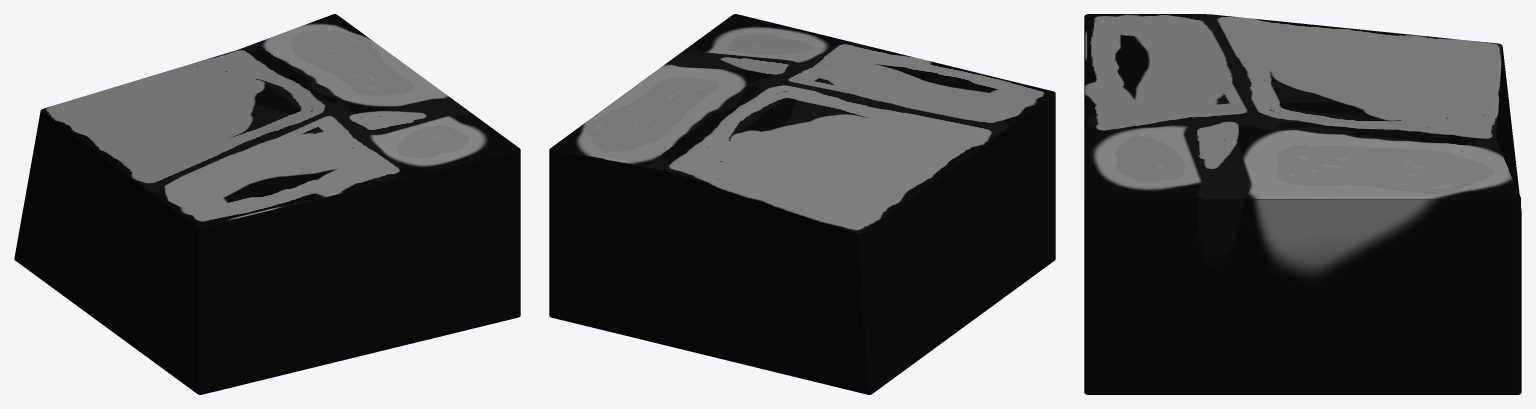
Rendered from CastleFloor2.glb.
3 views of the same model, side by side, from view 1: azimuth 30°, elevation 25°; view 2: azimuth 150°, elevation 25°; view 3: azimuth 270°, elevation 25° (orthographic). The views are drawn at different scales.
Parts seen in each view (by area): view 1: Cube; view 2: Cube; view 3: Cube.
Part boxes in pixels (x1,y1,x2,y2): Cube: [14, 14, 520, 394]; Cube: [549, 14, 1055, 394]; Cube: [1084, 14, 1521, 394].
Size of the model in its own units: 2 by 1.08 by 2.
Materials: 1 (1 with a texture image).
